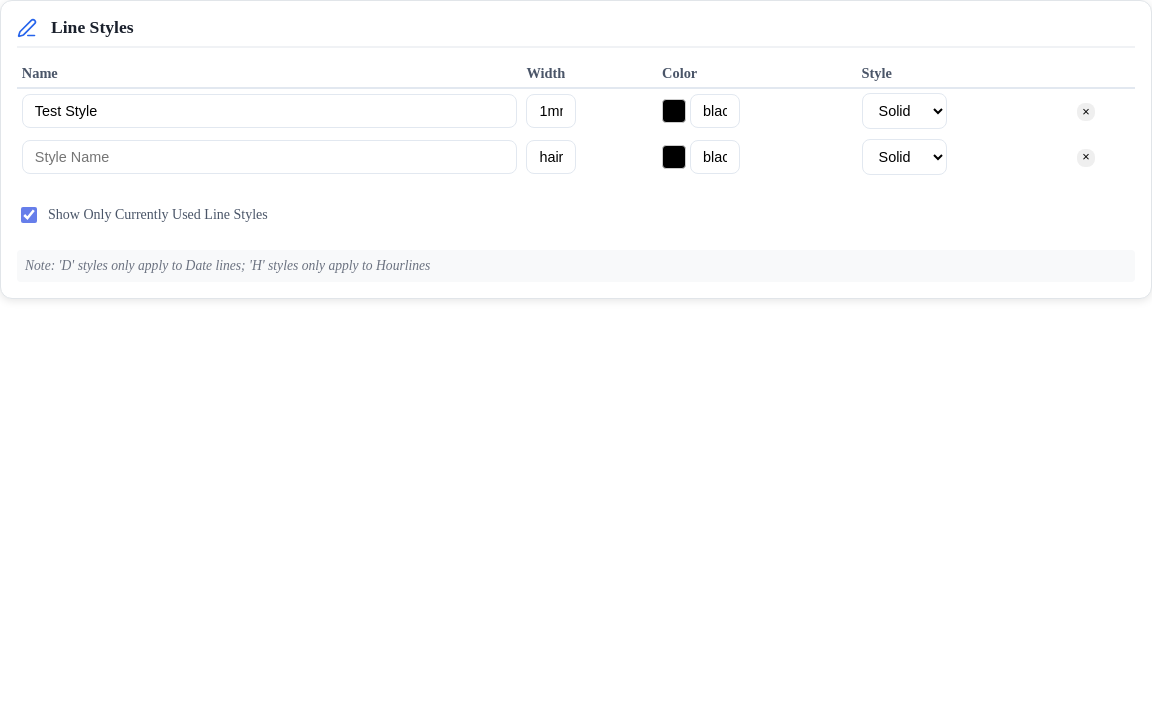
Test: LineSettings Calculated Style Popup › should close popup when cancel is clicked
Note: Trigger popup
Select "Calculated" in the 2nd dropdown at {"x": 904, "y": 157}, box x1=862 y1=139 x2=946 y2=175
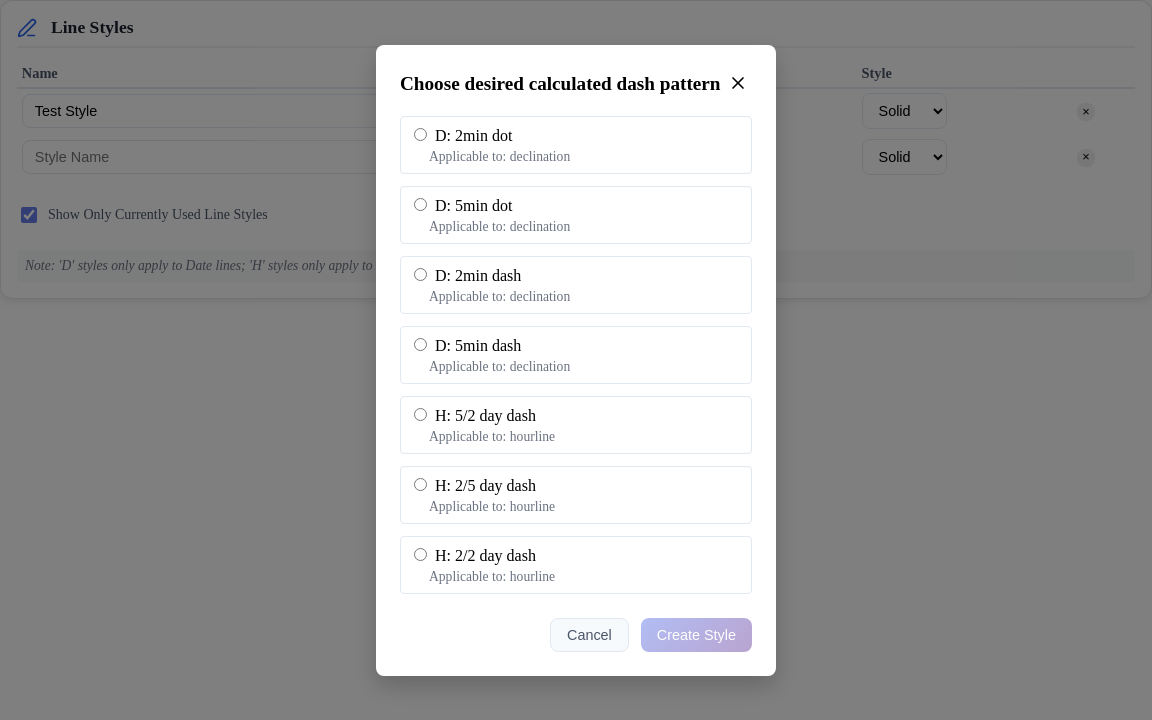
Note: Click cancel
Click the button "Cancel".
click(589, 634)  # box x1=550 y1=618 x2=629 y2=652
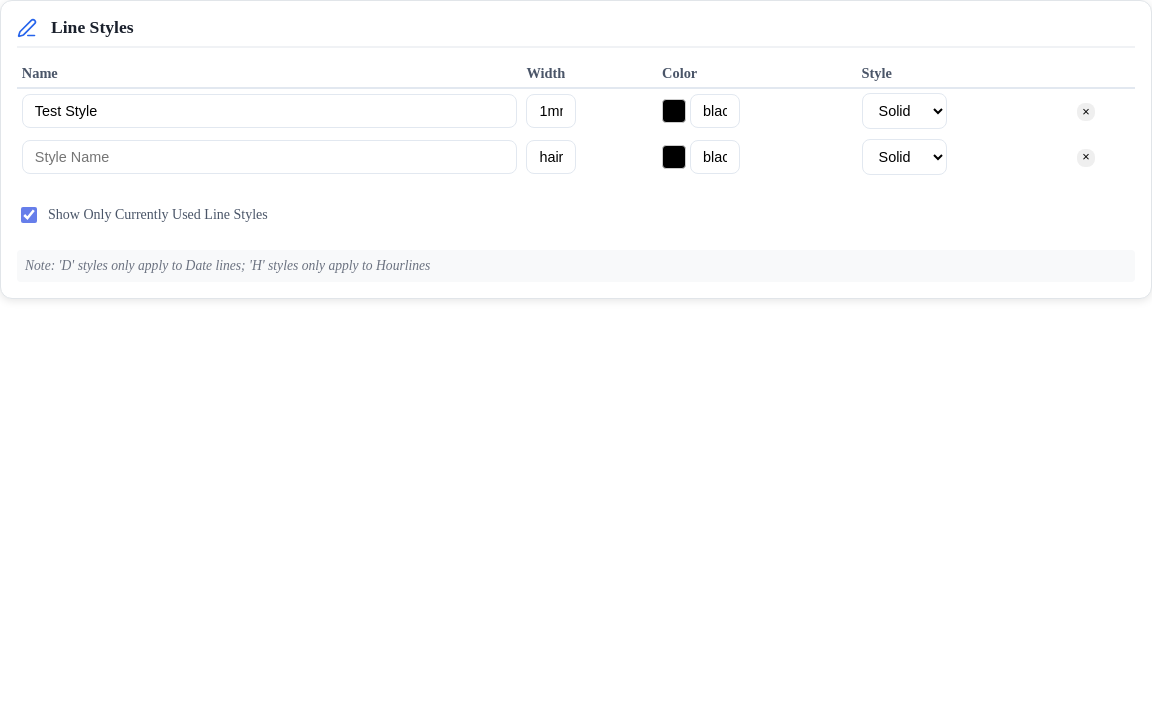
Expected: the heading "Choose desired calculated dash pattern" is gone
